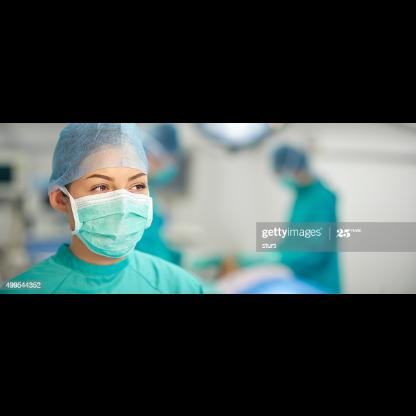Surgical Mask: (28, 122, 158, 264)
